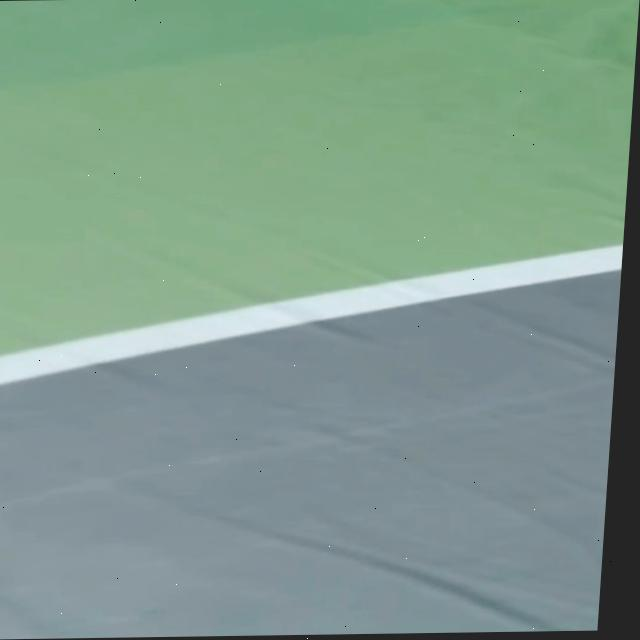right: (0, 245, 623, 384)
